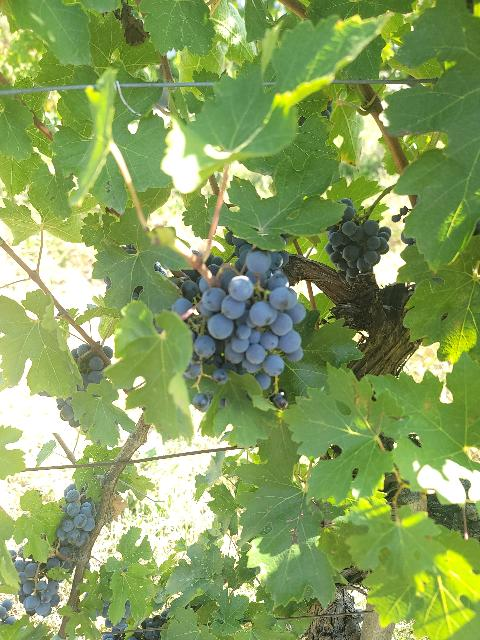grapes: (194, 249, 306, 376), (325, 198, 391, 280), (10, 551, 60, 618), (56, 484, 96, 556), (71, 344, 114, 388)
